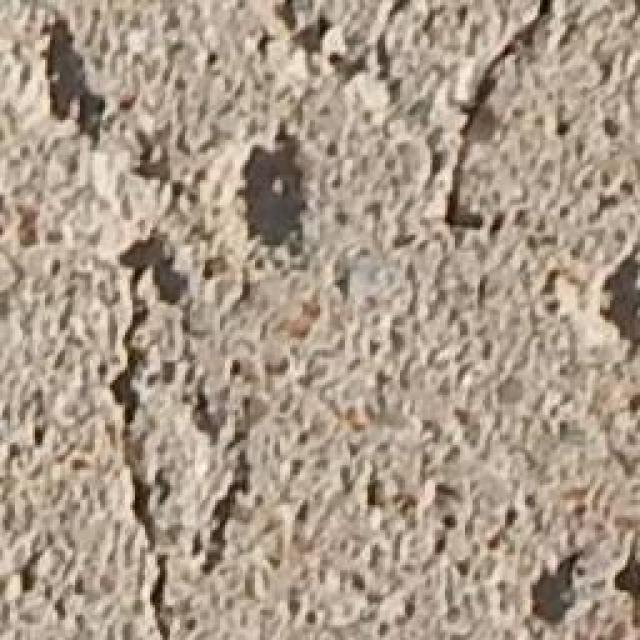concrete-crack: (95, 221, 263, 640), (420, 3, 560, 242), (245, 120, 308, 248), (48, 18, 105, 142), (605, 242, 640, 350), (532, 555, 582, 625)
